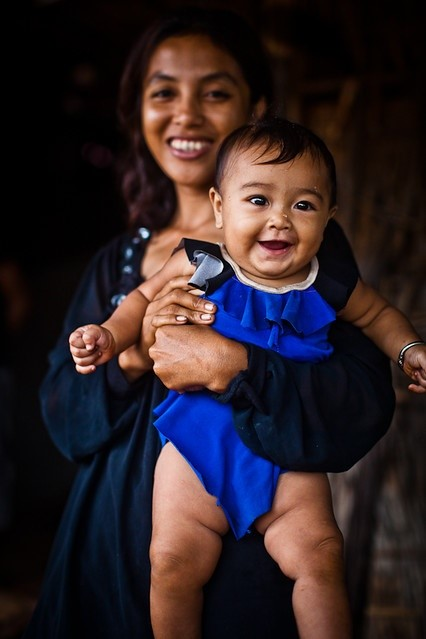face_no_mask: (122, 20, 269, 185), (211, 119, 338, 279)
